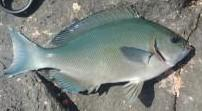fish: (1, 1, 193, 97)
